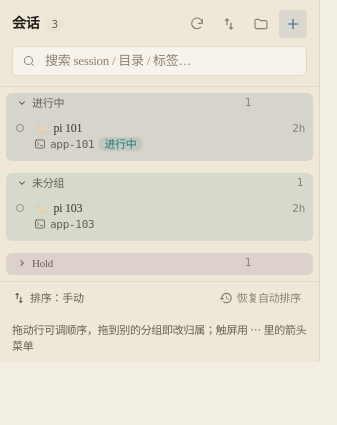
Test: LiveSessionsList sidebar › puts Hold last, defaults it to collapsed, and reveals search matches
Expected: the text "pi 102" is not shown
Click the button named "Hold：展开分组". click: point(22, 263)
box: [16,254,28,272]
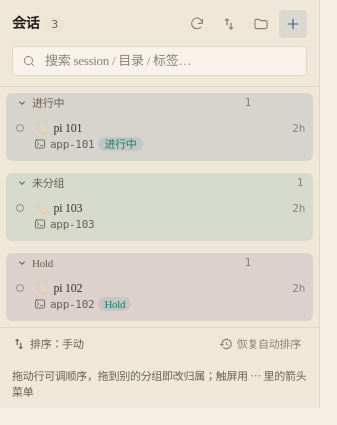
Expected: the text "pi 102" is shown, [54,281,82,295]
Click the button named "Hold：折叠分组". click: point(22, 263)
box: [16,254,28,272]
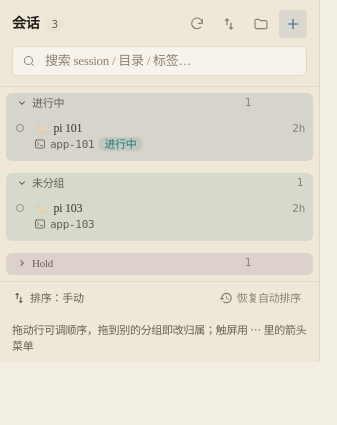
Type "pi 102" into the search field with placeholder "搜索 session / 目录 / 标签…". click: point(160, 61)
box: [12,46,307,76]
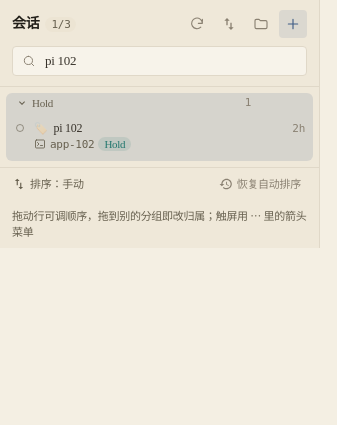
Expected: the text "pi 102" is shown, [54,121,82,135]
Click the button named "Hold：折叠分组". click: point(22, 103)
box: [16,94,28,112]
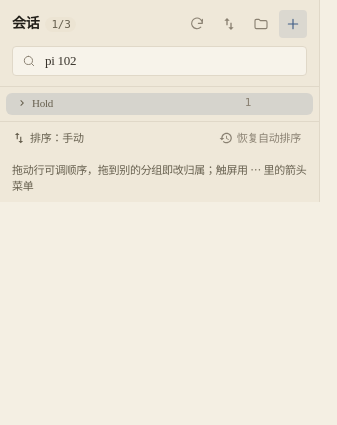
Click the button named "Hold：展开分组". click: point(22, 103)
box: [16,94,28,112]
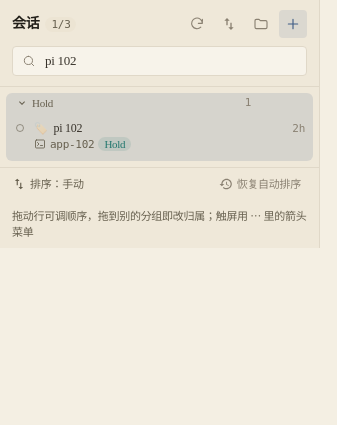
Expected: the text "pi 102" is shown, [54,121,82,135]
